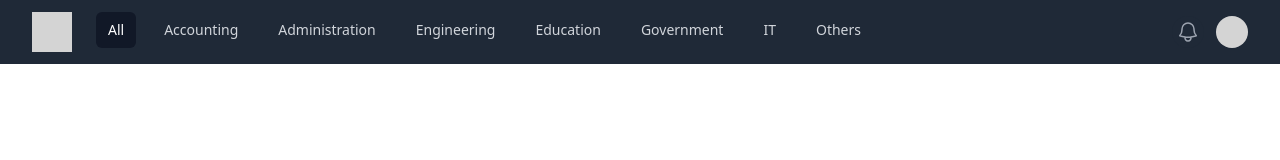
it: Navigation component › renders user menu with Sign out when user is logged in
The image size is (1280, 160).
Click the 2nd button "Open user menu": x=1232, y=32 top-left (1216, 16), bottom-right (1248, 48)
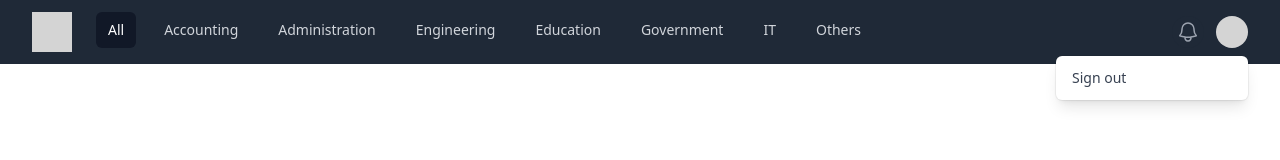
expect the menu item "Sign out" is shown: met, box top-left (1072, 68), bottom-right (1126, 87)
